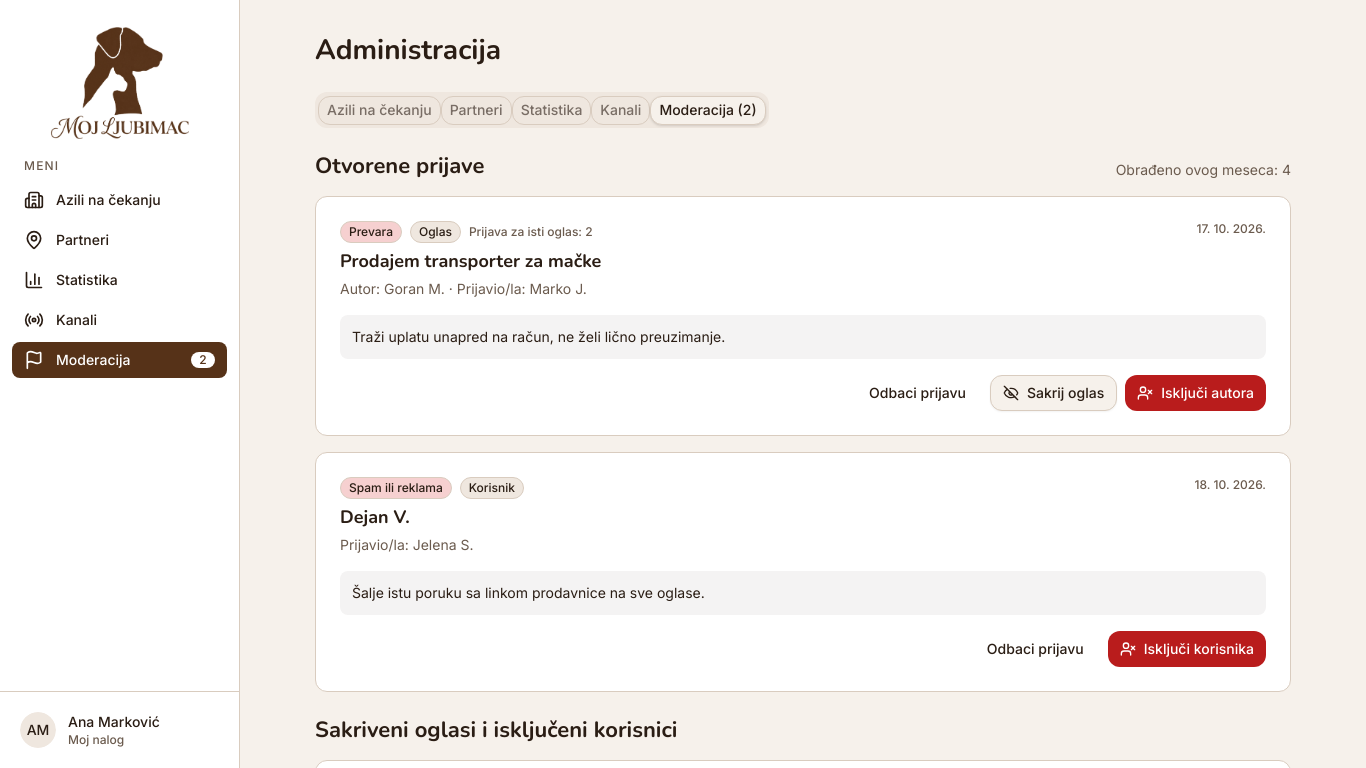
FR-71 #2–#5 — decisions › #2: Sakrij oglas confirms in an AlertDialog and passes the reason for the user
This screenshot has width=1366, height=768.
Click the button "Sakrij oglas". click: (1054, 393)
box: [990,375,1117,411]
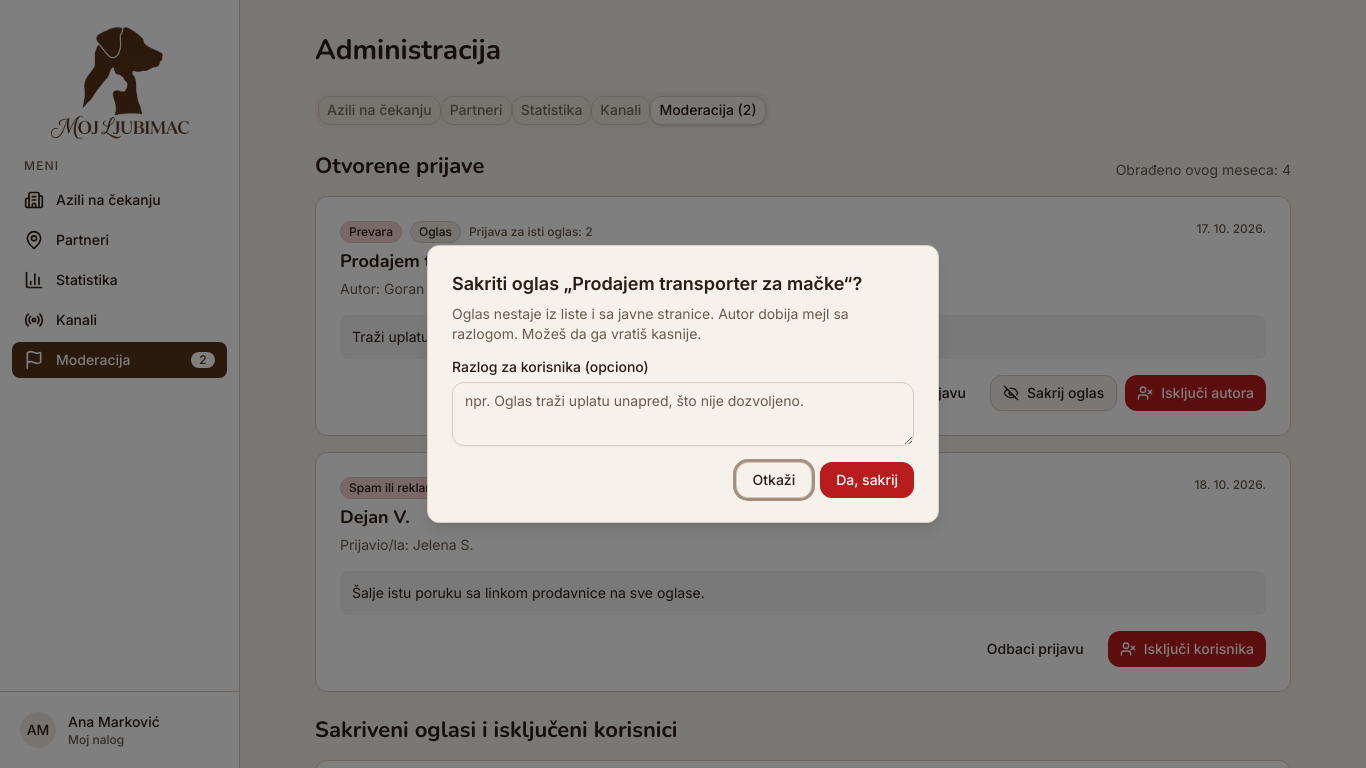
Type "Oglas traži uplatu unapred." into the text box labelled "Razlog za korisnika (opciono)". click: (683, 414)
box: [452,382,914,446]
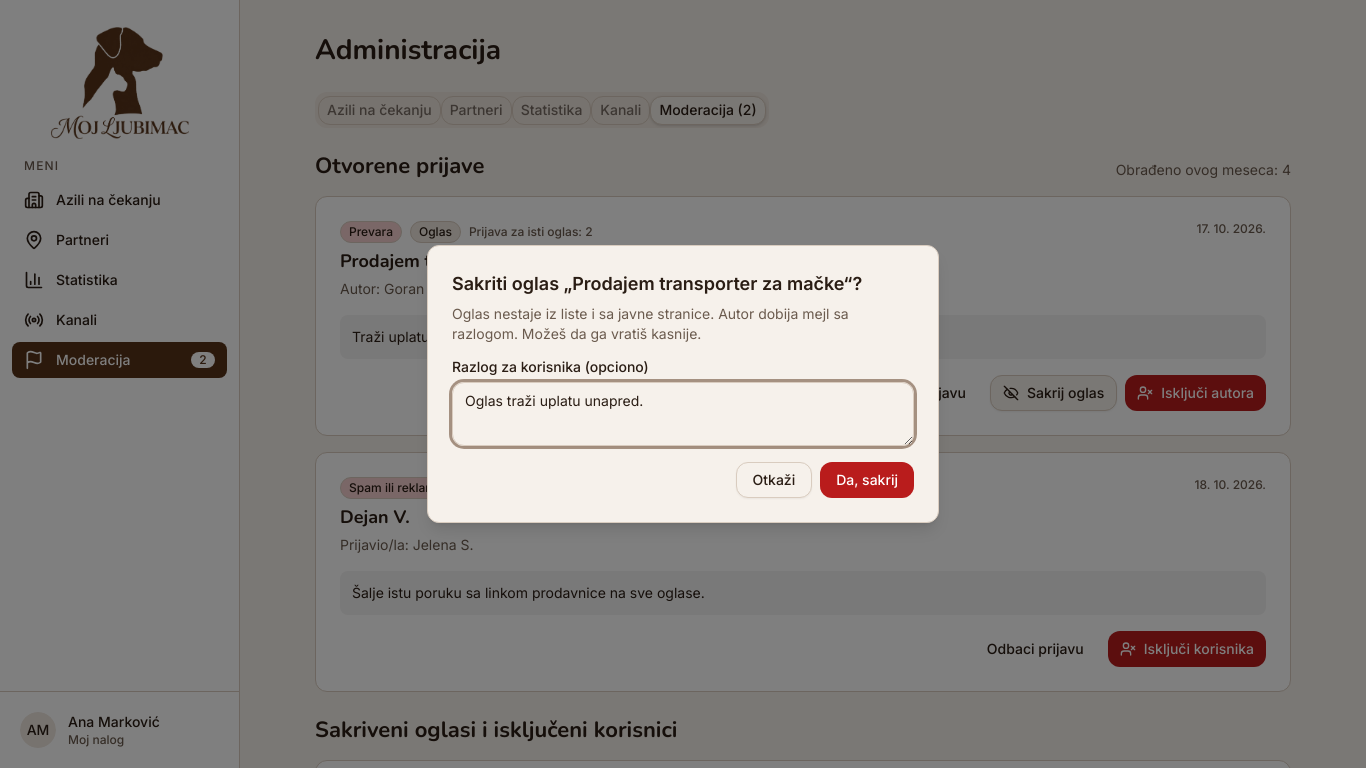
Click the button "Da, sakrij". click: (867, 480)
box: [820,462,914,498]
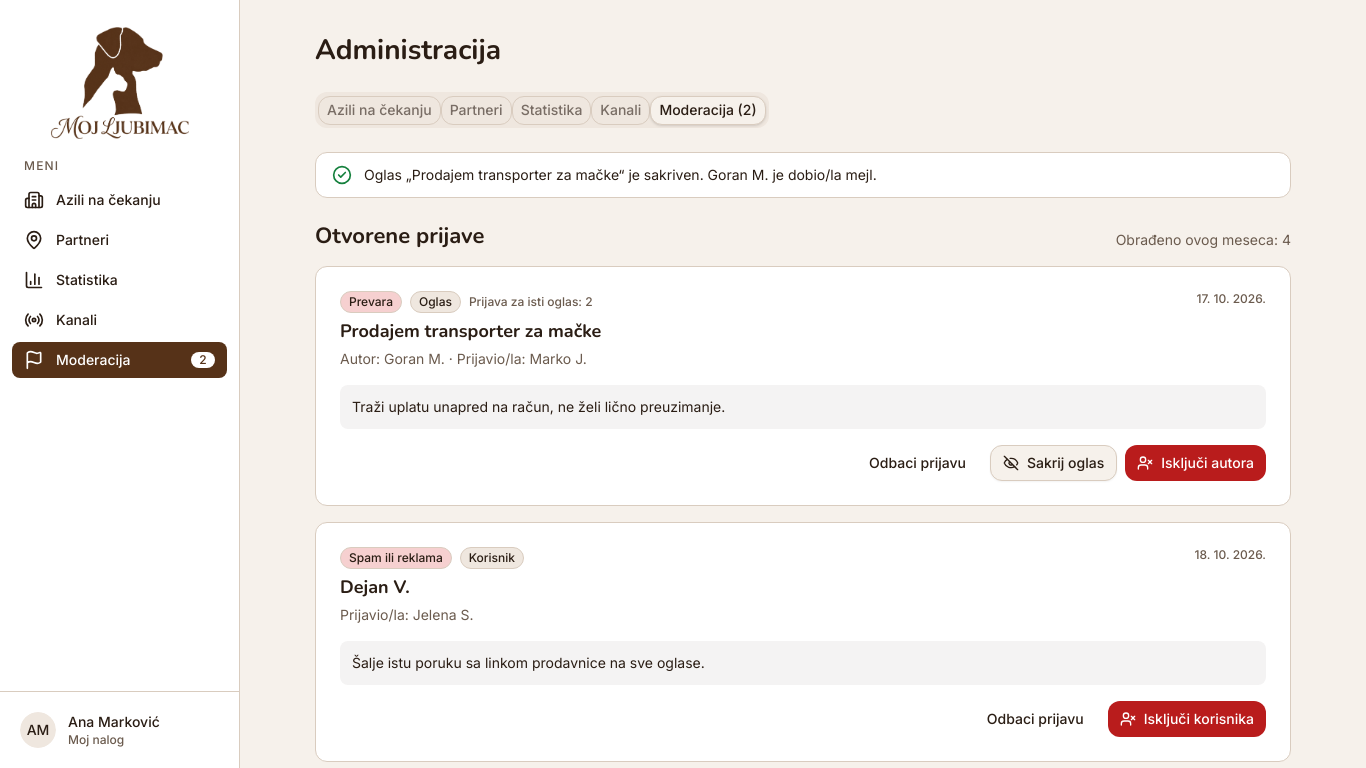
Expected: the text "Oglas „Prodajem transporter za mačke“ je sakriven. Goran M. je dobio/la mejl." is shown, [364,165,877,185]
